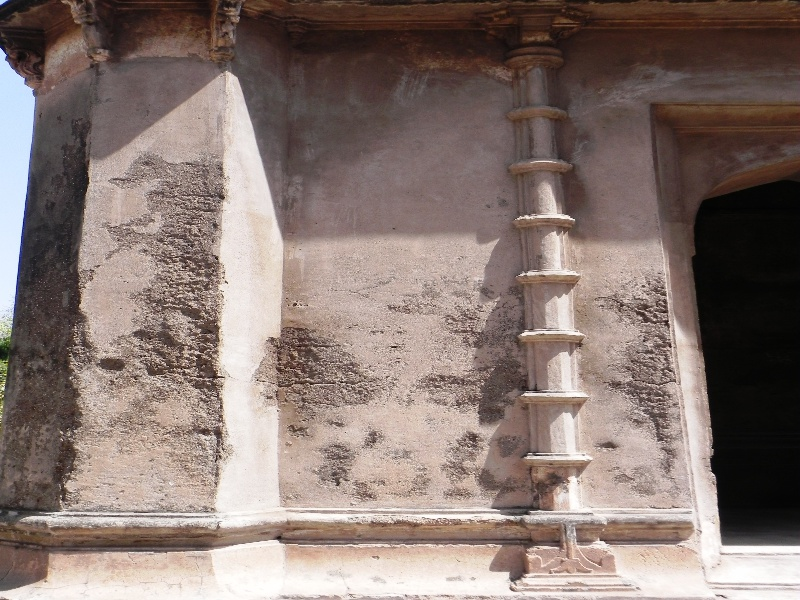Spalling: (94, 144, 233, 456), (251, 318, 379, 427), (625, 274, 683, 483)
